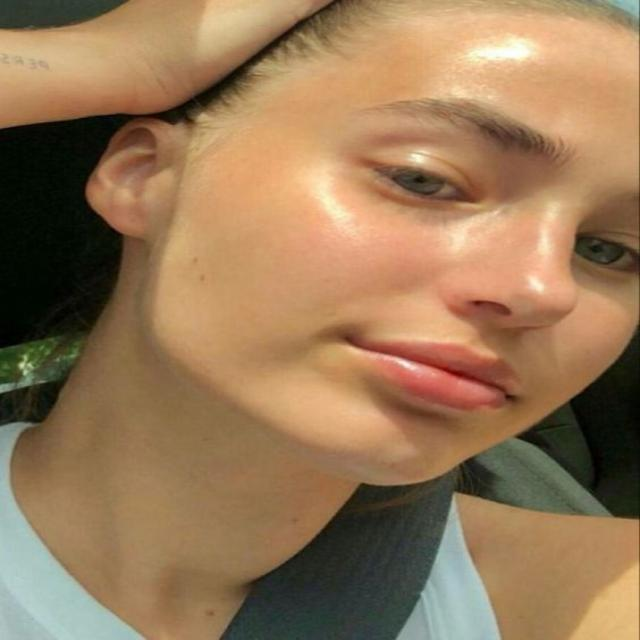Oily-Skin: (236, 140, 391, 276), (503, 175, 599, 338), (417, 36, 640, 91), (407, 212, 518, 276)
